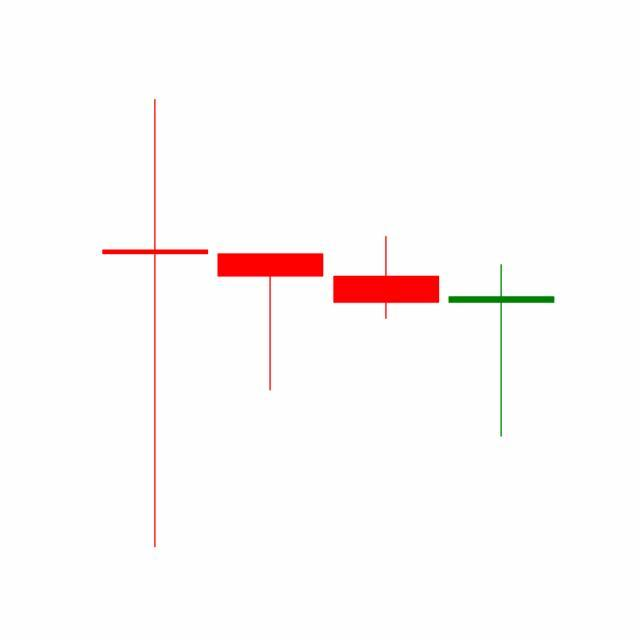Spinning Top: (444, 263, 560, 439)
